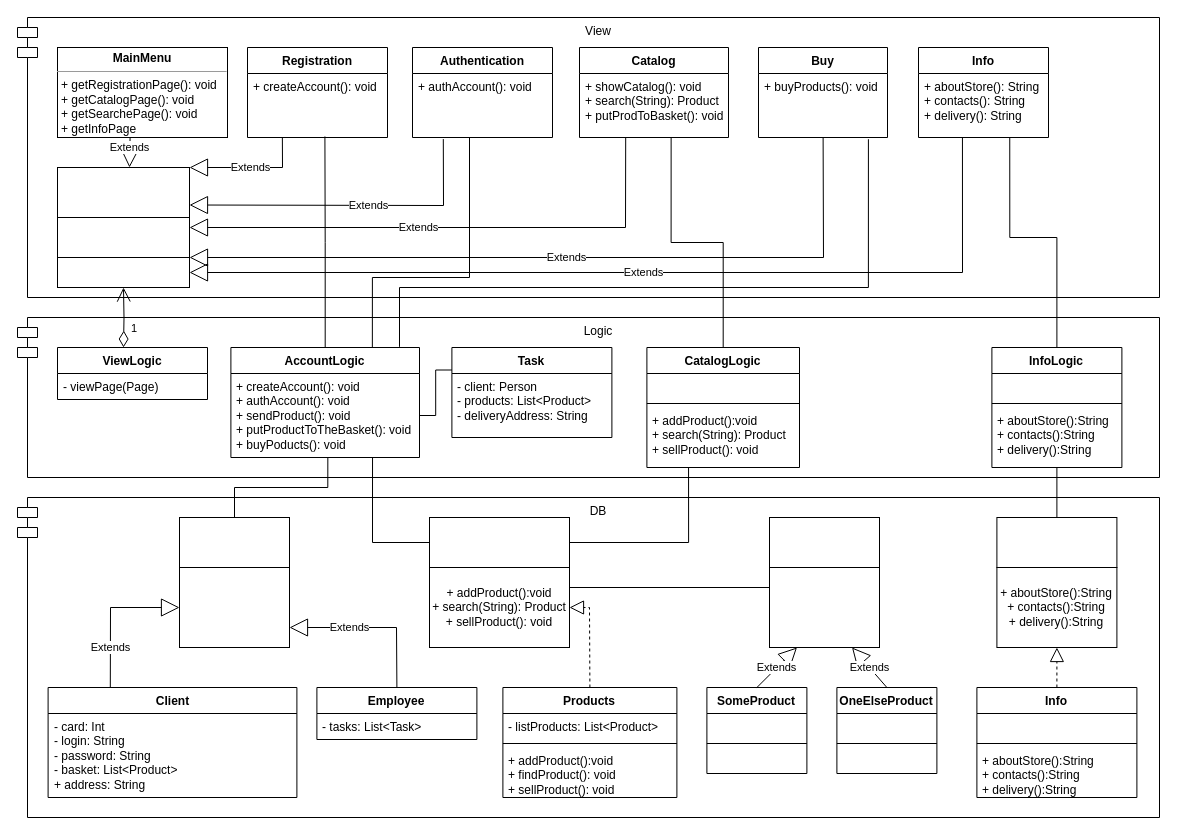
The diagram is 1177 pixels wide and 835 high, and some of its shapes have lost their labels. Each missing label, with the centre of its shape:
"+ getMainPage(): void" goes at pixel 123 272.
"- id: Int - fio: String - email: String - phone: String" goes at pixel 234 607.
"- id: int - name: String - price: Decimal" goes at pixel 824 607.
"- title: String - helloMessage: String" goes at pixel 123 237.
"«Abstract» Page" goes at pixel 123 192.
"«Abstract» Person" goes at pixel 234 542.
"«Abstract» Product" goes at pixel 824 542.
"«interface» Information" goes at pixel 1056 542.
"«interface» ProductList" goes at pixel 499 542.
